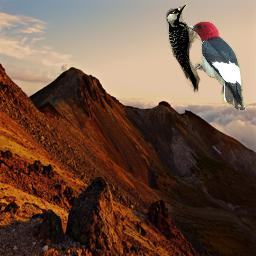Woodpecker: (180, 21, 248, 110), (162, 1, 207, 99)
